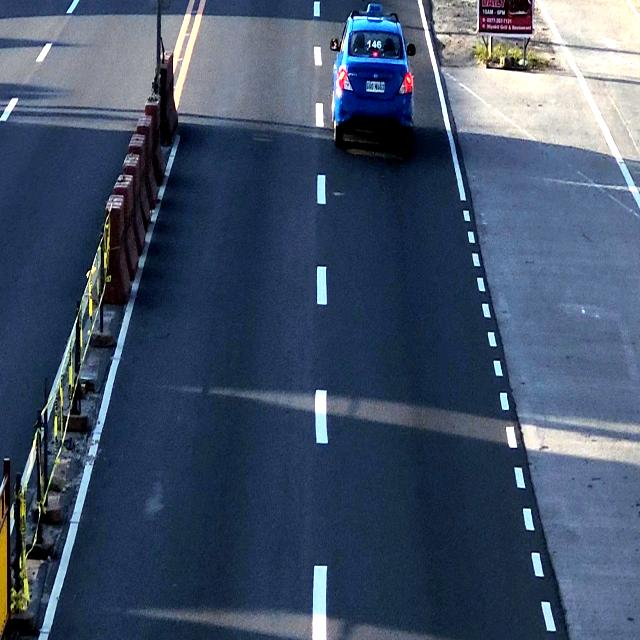Car: (328, 0, 413, 149)
License-Plate: (364, 77, 388, 96)
